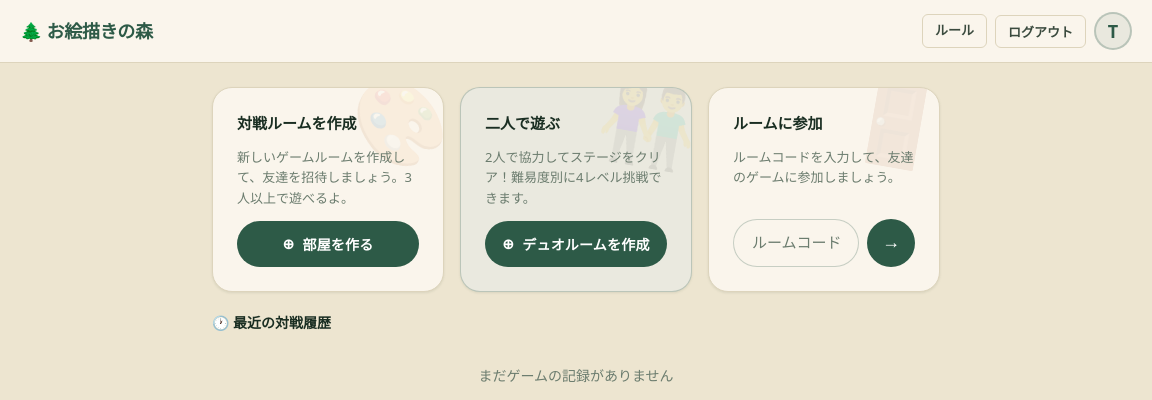
Test: Lobby ページ（ログイン済み） › 参加中はボタンが無効化される
This screenshot has width=1152, height=400.
Type "ABC123" into the field labelled "ルームコード" at (796, 243), box [733,219,859,267]
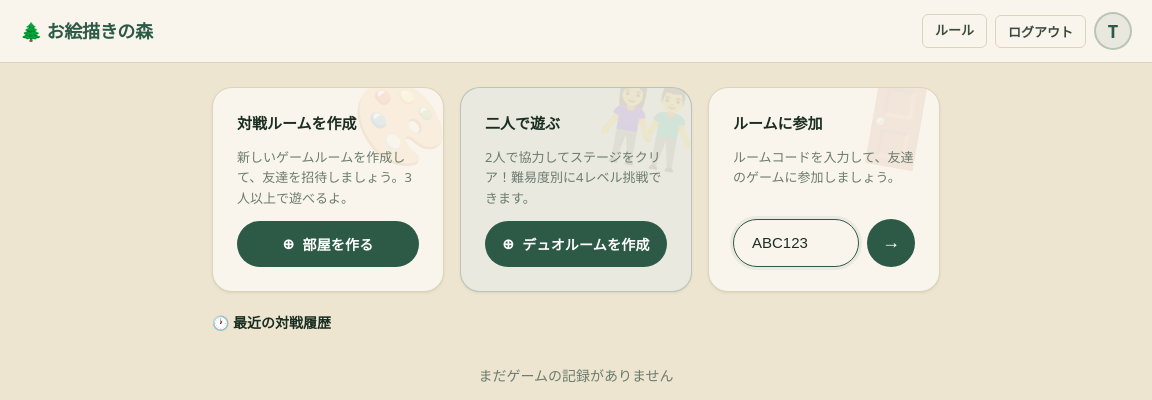
Click the button named "参加する" at (891, 243), box [867,219,915,267]
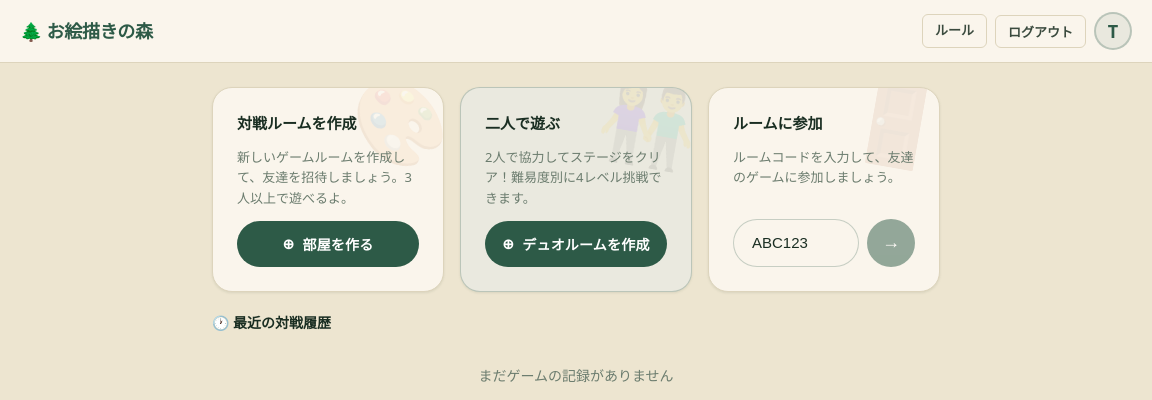
Expected: the button named "参加する" is disabled, [867,219,915,267]
